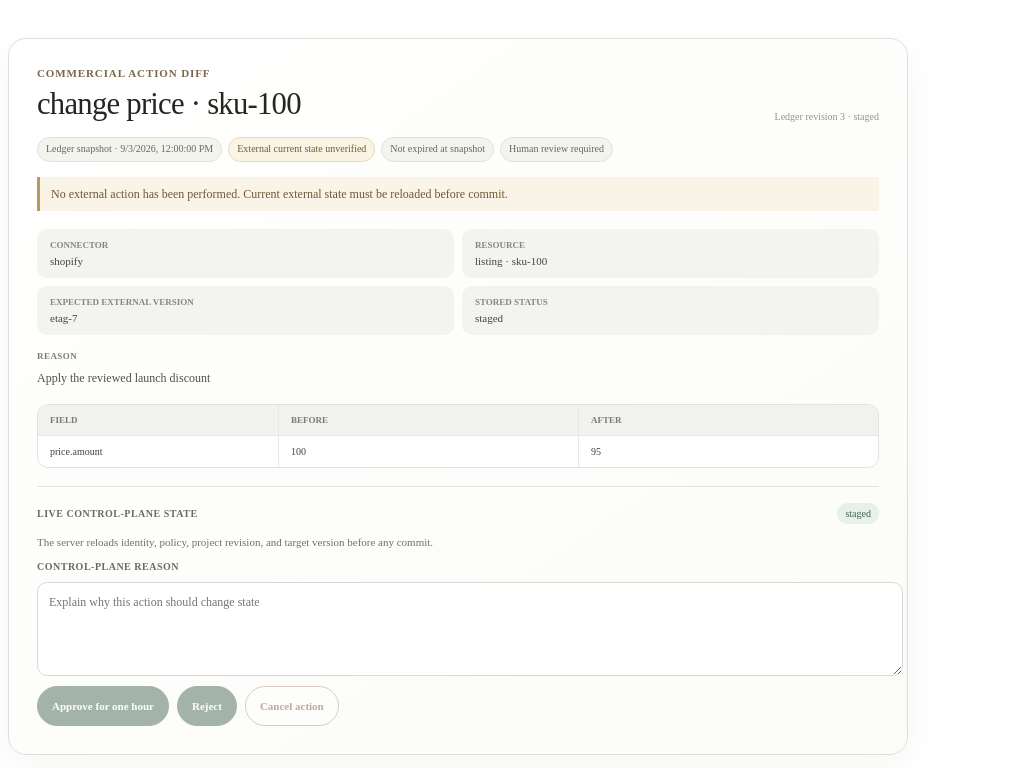
Test: typed presentations › surfaces server authorization failures and retains cancellation as a control-plane action
Type "Withdraw this proposal" into the text box labelled "Control-plane reason". click: (470, 629)
box: [37,582,903,676]
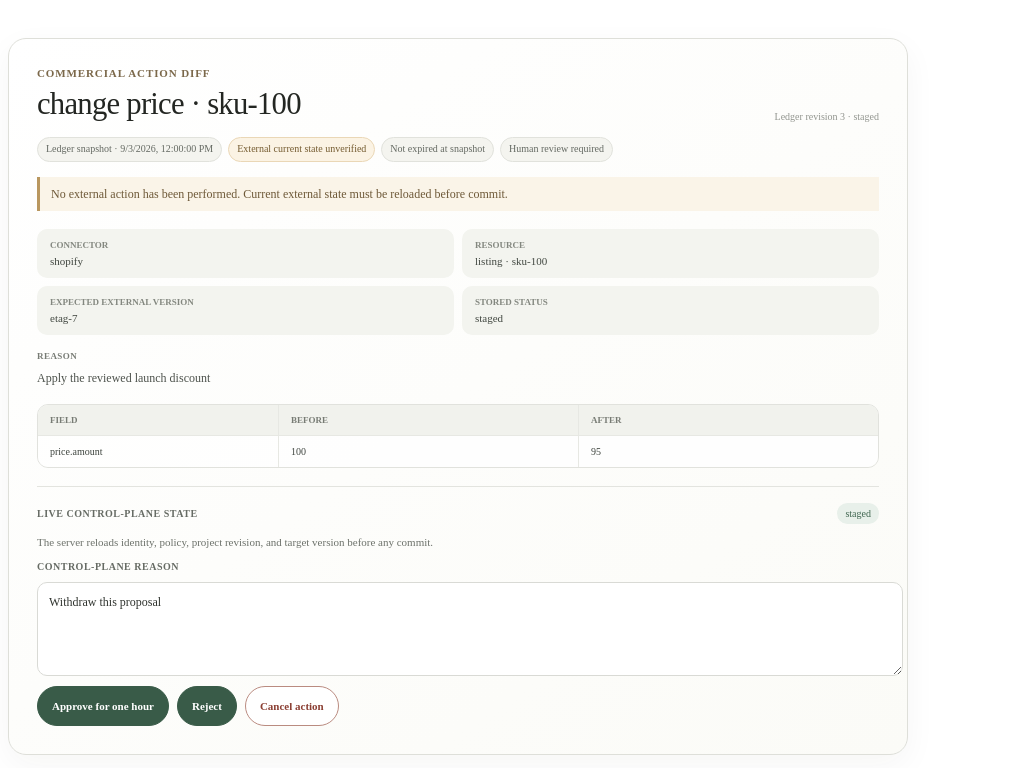
Click the button "Cancel action". click: (292, 706)
box: [245,686,339,726]
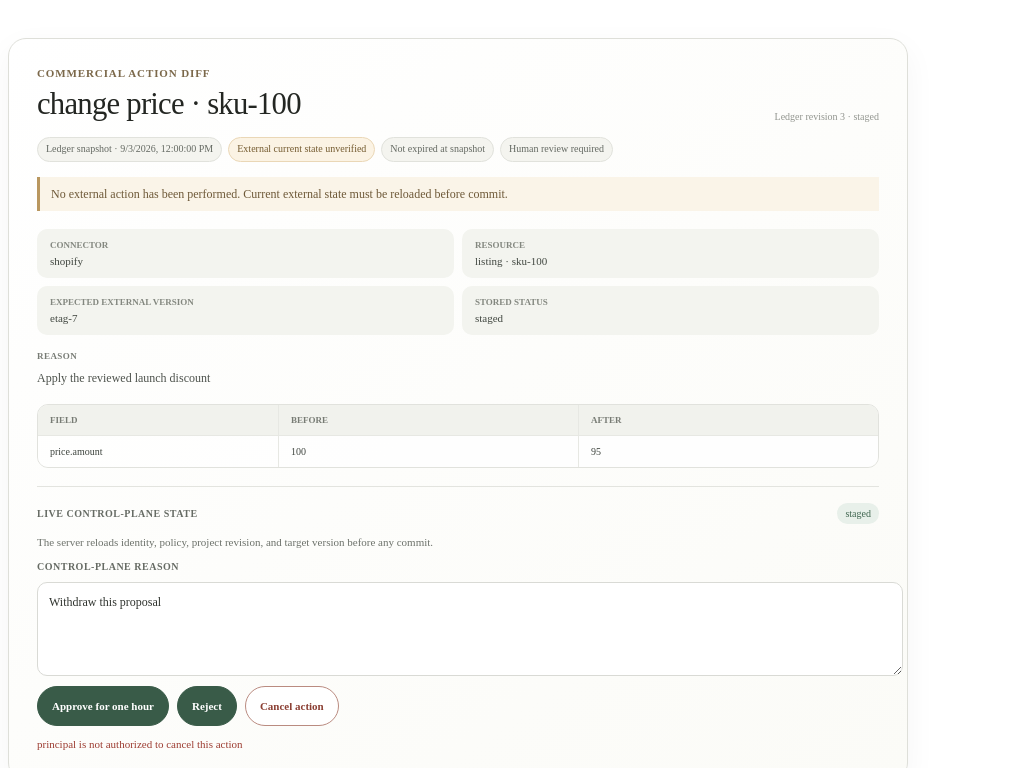
Result: the message reads "principal is not authorized to cancel this action" at [37,738,243,750]
